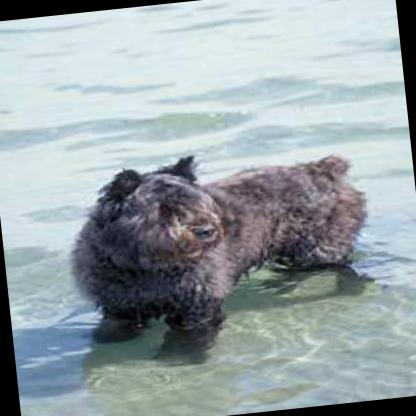Bouvier_des_Flandres: (55, 134, 380, 366)
